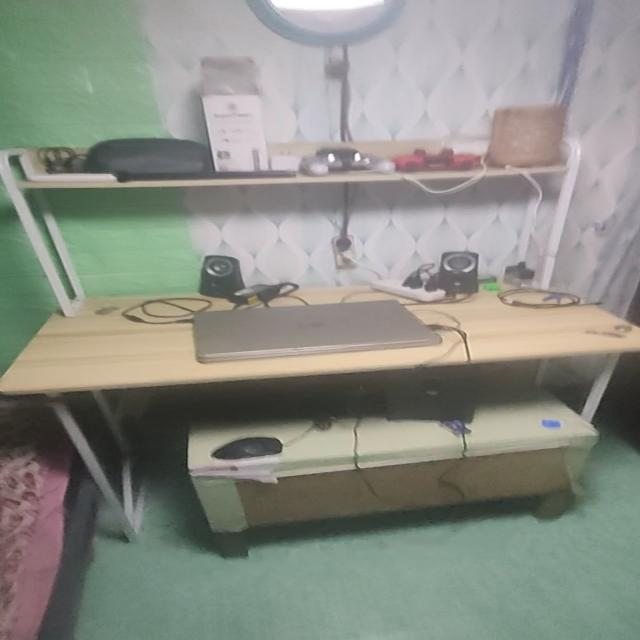table: (0, 279, 640, 546)
